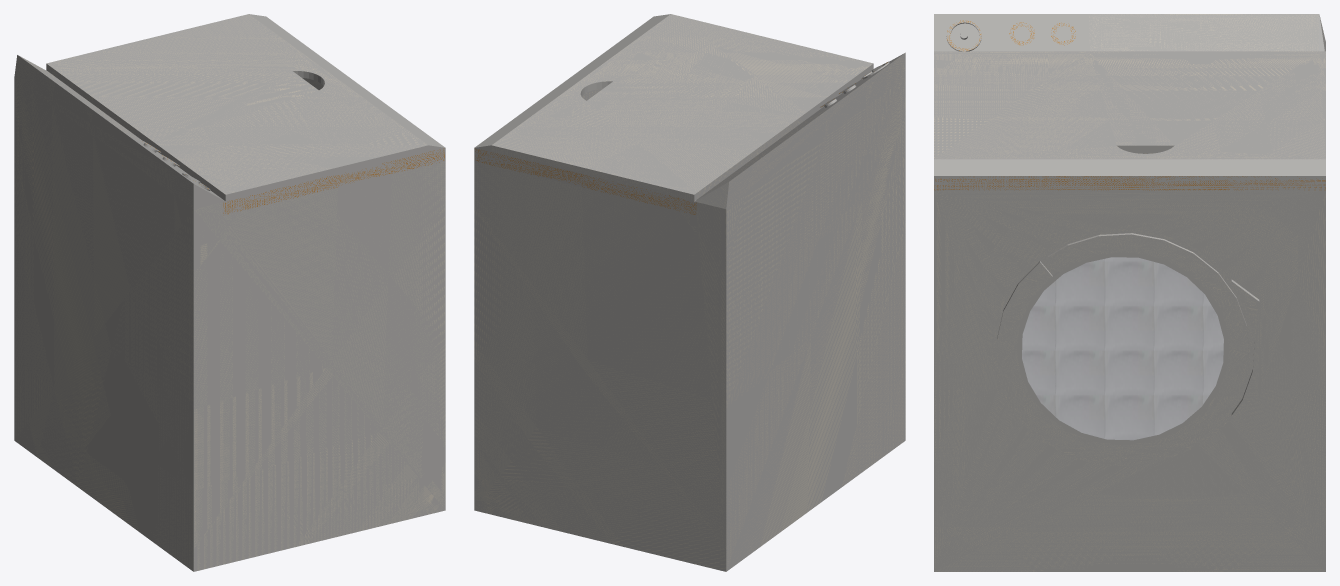
3 views of the same model, side by side, from view 1: azimuth 30°, elevation 25°; view 2: azimuth 150°, elevation 25°; view 3: azimuth 270°, elevation 25° (orthographic). The views are drawn at different scales.
Visible parts, largest first — view 1: mesh12_mesh12-geometry; view 2: mesh12_mesh12-geometry; view 3: mesh12_mesh12-geometry.
Boxes of the visible parts, box(x1,y1,x2,y2) form: mesh12_mesh12-geometry: box(14, 14, 445, 571); mesh12_mesh12-geometry: box(474, 14, 905, 571); mesh12_mesh12-geometry: box(934, 14, 1325, 571).
Size of the model in its own units: 0.4673 by 0.6776 by 0.5678.
